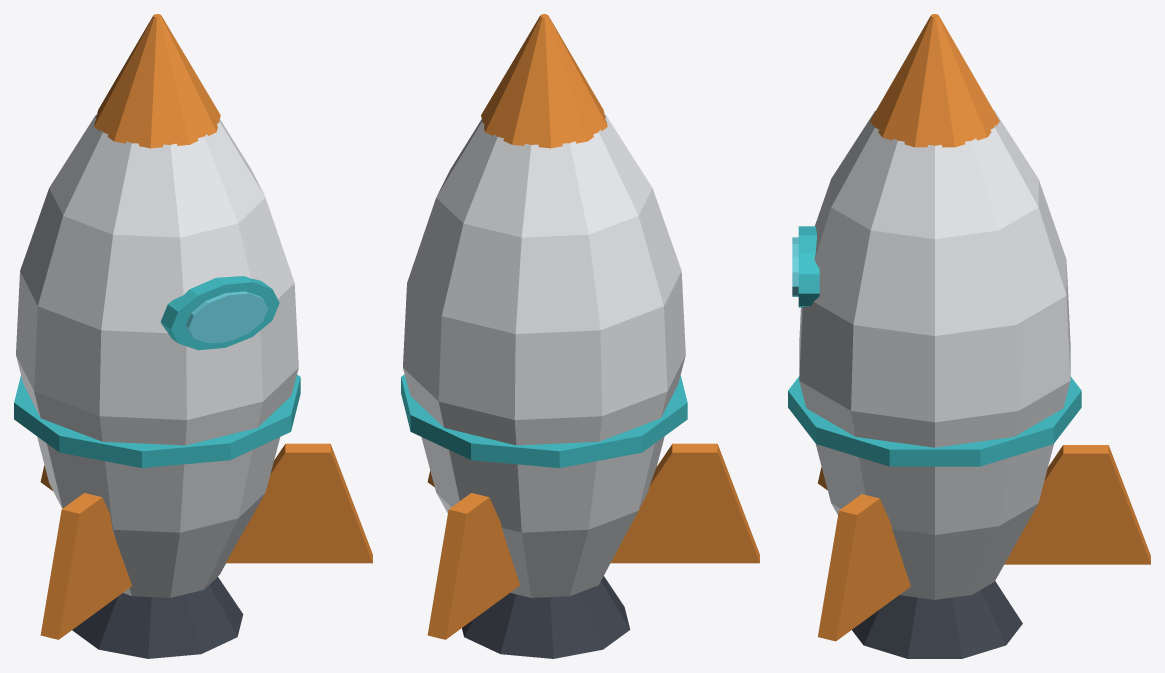
Rendered from ShipRetro.fbx.
The picture shows the model from 3 angles, left to right: view 1: azimuth 30°, elevation 25°; view 2: azimuth 150°, elevation 25°; view 3: azimuth 270°, elevation 25°; orthographic projection.
Visible parts, largest first — view 1: ShipRetro; view 2: ShipRetro; view 3: ShipRetro.
Boxes of the visible parts, x1,y1,x2,y2 form: ShipRetro: [14, 14, 372, 658]; ShipRetro: [401, 14, 759, 658]; ShipRetro: [788, 14, 1150, 658].
Size of the model in its own units: 2.48 by 4.32 by 2.34.
